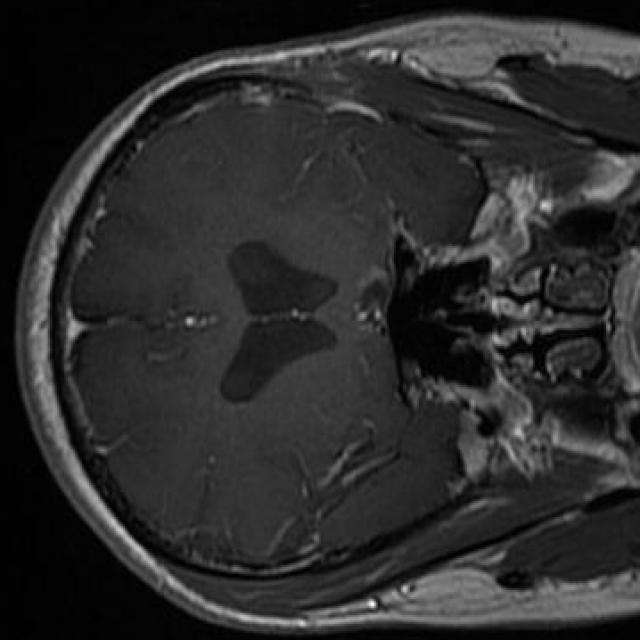glioma: (355, 276, 389, 328)
